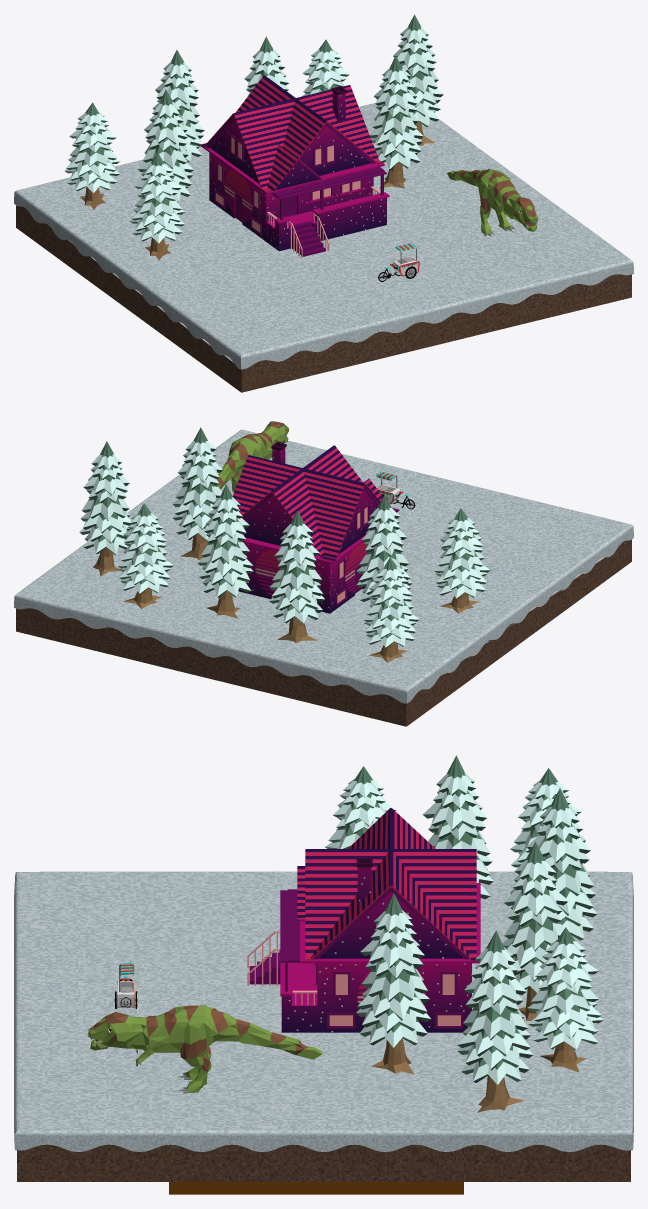
The picture shows the model from 3 angles, top to bottom: view 1: azimuth 30°, elevation 25°; view 2: azimuth 150°, elevation 25°; view 3: azimuth 270°, elevation 25°; orthographic projection. The views are drawn at different scales.
Parts seen in each view (by area): view 1: Cube.003, Cube.156, ANIMAL_TREX, VEHICLES_SNOWBAL_BIKE; view 2: Cube.003, Cube.156, ANIMAL_TREX, VEHICLES_SNOWBAL_BIKE; view 3: Cube.003, Cube.156, ANIMAL_TREX, UNDERGROUND_ART_PIECE_VAN_GOGH, VEHICLES_SNOWBAL_BIKE.
Boxes of the visible parts, left/top/right/bottom form: Cube.003: left=14, top=14, right=633, bottom=392; Cube.156: left=200, top=75, right=389, bottom=257; ANIMAL_TREX: left=447, top=168, right=538, bottom=236; VEHICLES_SNOWBAL_BIKE: left=378, top=243, right=419, bottom=281; Cube.003: left=14, top=427, right=633, bottom=726; Cube.156: left=233, top=442, right=402, bottom=613; ANIMAL_TREX: left=217, top=421, right=288, bottom=491; VEHICLES_SNOWBAL_BIKE: left=376, top=471, right=415, bottom=509; Cube.003: left=14, top=755, right=633, bottom=1181; Cube.156: left=247, top=808, right=480, bottom=1032; ANIMAL_TREX: left=88, top=1005, right=322, bottom=1093; UNDERGROUND_ART_PIECE_VAN_GOGH: left=169, top=1182, right=463, bottom=1194; VEHICLES_SNOWBAL_BIKE: left=114, top=962, right=137, bottom=1008.
Size of the model in its own units: 4040 by 1818 by 4040.
29 materials, 6 textured.
